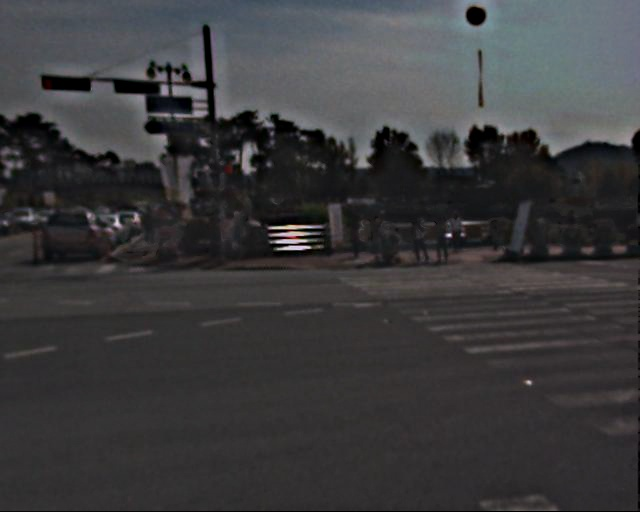person: (369, 208, 392, 264), (221, 209, 242, 261), (436, 213, 457, 265), (350, 210, 371, 261), (144, 209, 179, 239), (412, 216, 432, 265), (453, 208, 470, 250)
